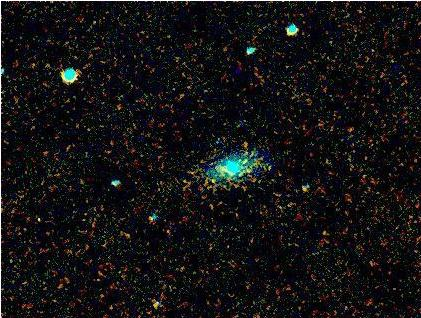star: (307, 213, 337, 243)
